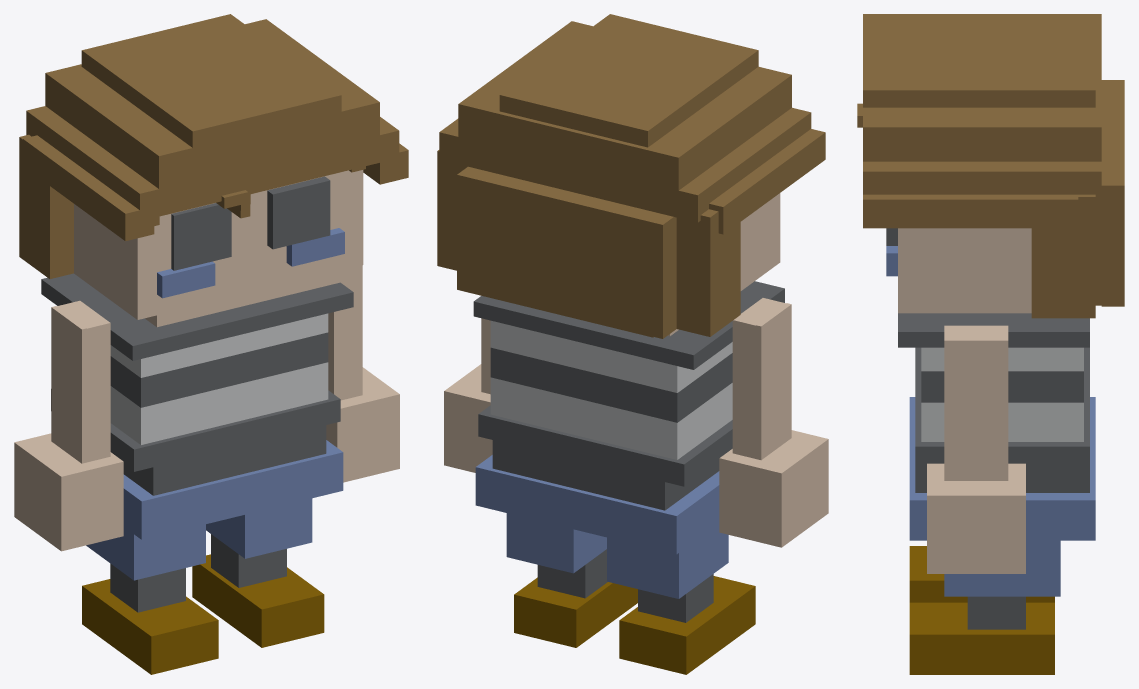
Rendered from Copy of Evan Afton.glb.
3 renders of one model, left to right at view 1: azimuth 30°, elevation 25°; view 2: azimuth 150°, elevation 25°; view 3: azimuth 270°, elevation 25°, orthographic. The views are drawn at different scales.
Parts seen in each view (by area): view 1: Mesh_Mesh_head_geo.001_lambert2SG.001; view 2: Mesh_Mesh_head_geo.001_lambert2SG.001; view 3: Mesh_Mesh_head_geo.001_lambert2SG.001.
Part boxes in pixels (x1,y1,x2,y2): Mesh_Mesh_head_geo.001_lambert2SG.001: [14, 14, 408, 674]; Mesh_Mesh_head_geo.001_lambert2SG.001: [437, 14, 828, 674]; Mesh_Mesh_head_geo.001_lambert2SG.001: [857, 14, 1124, 674].
Size of the model in its own units: 0.0705 by 0.1104 by 0.046.
